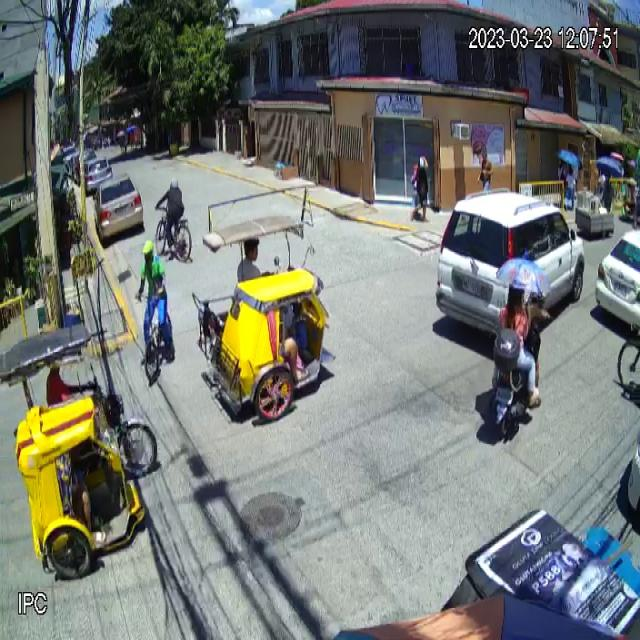Car: (434, 192, 586, 338), (94, 171, 144, 245)
Tricycle: (0, 321, 157, 577), (192, 213, 331, 419)
